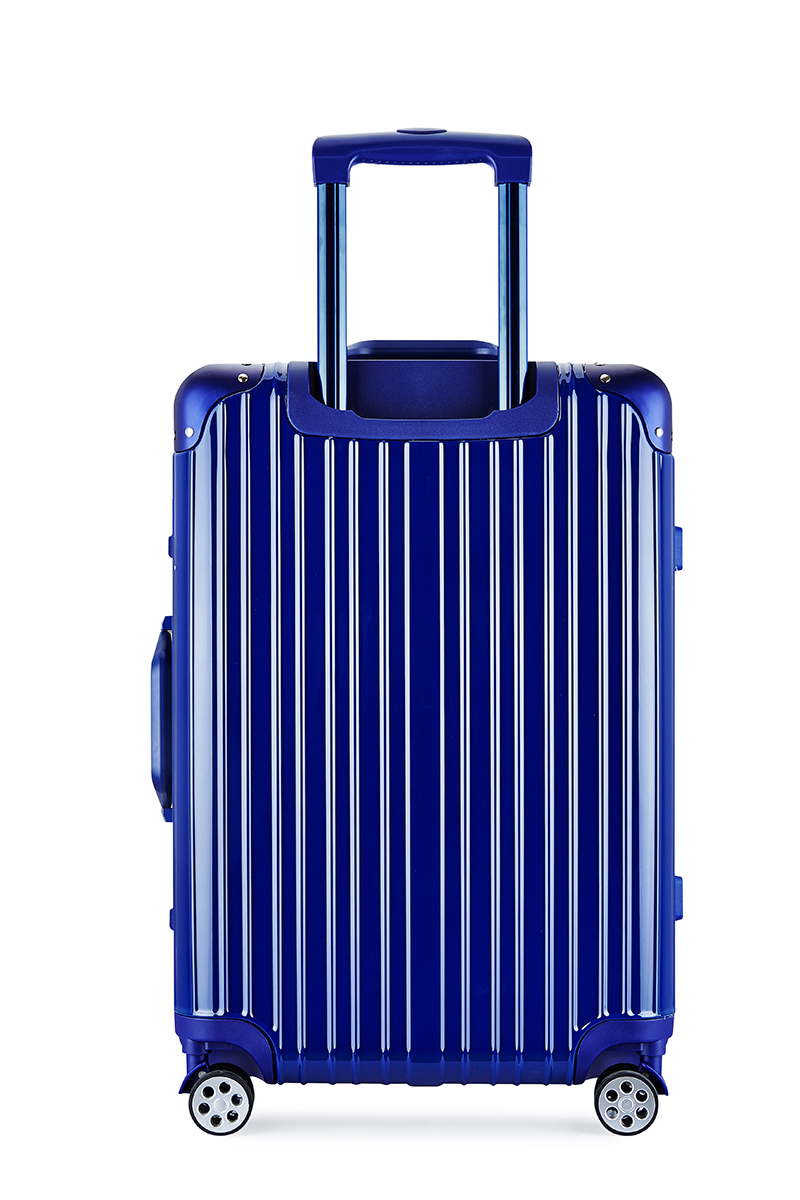luggage: (148, 123, 686, 1136)
